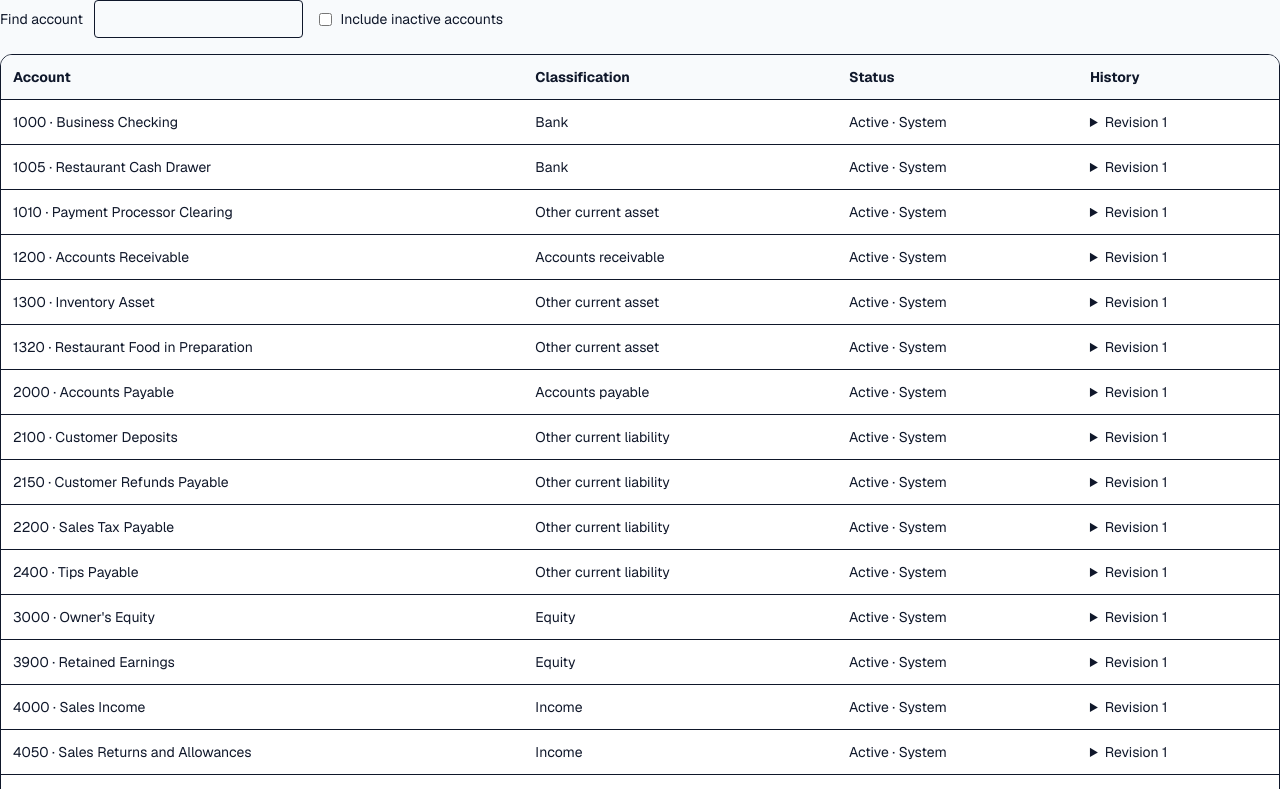
Test: filters accounts and gives viewers no mutation controls
Type "checking" into the field labelled "Find account" at (199, 19), box 94,0 -> 303,38
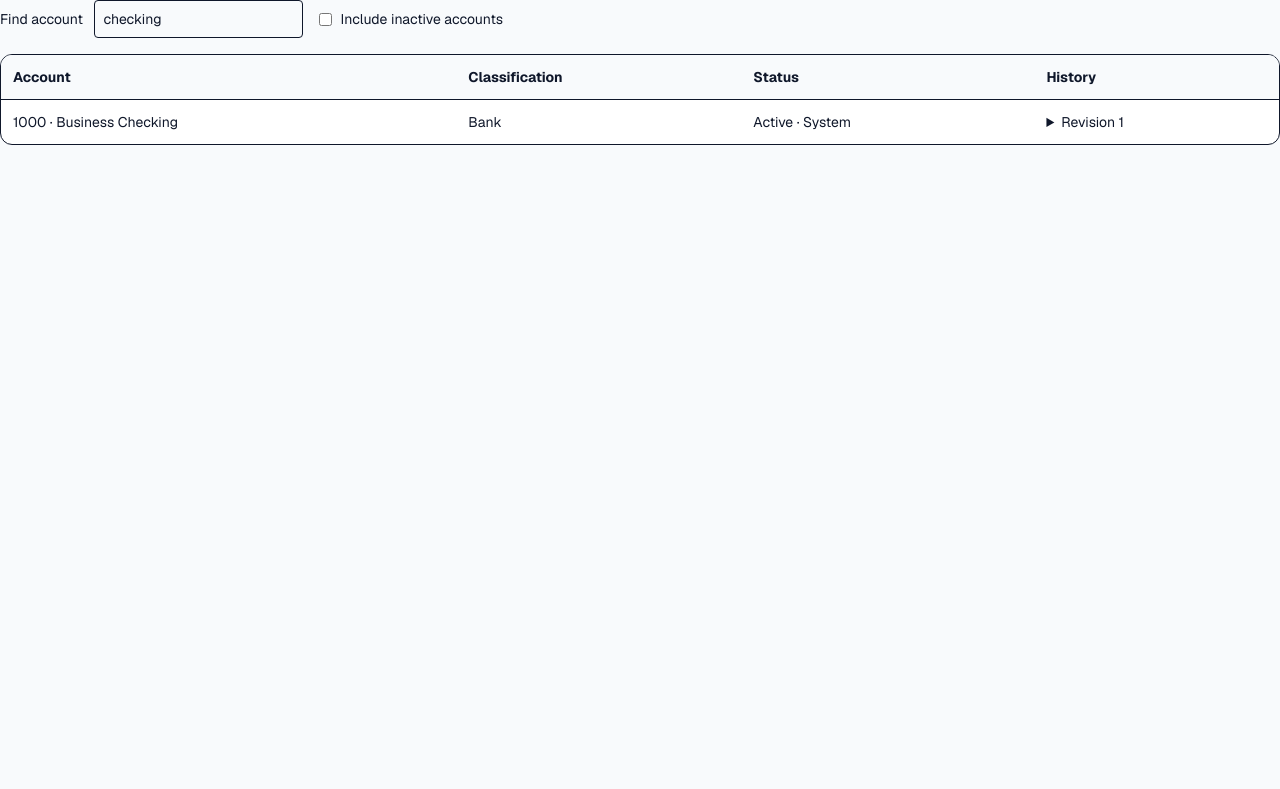
Check: the text "1000 · Business Checking" is shown, box 13,113 -> 178,131
Check: the text "Sales Income" is gone
